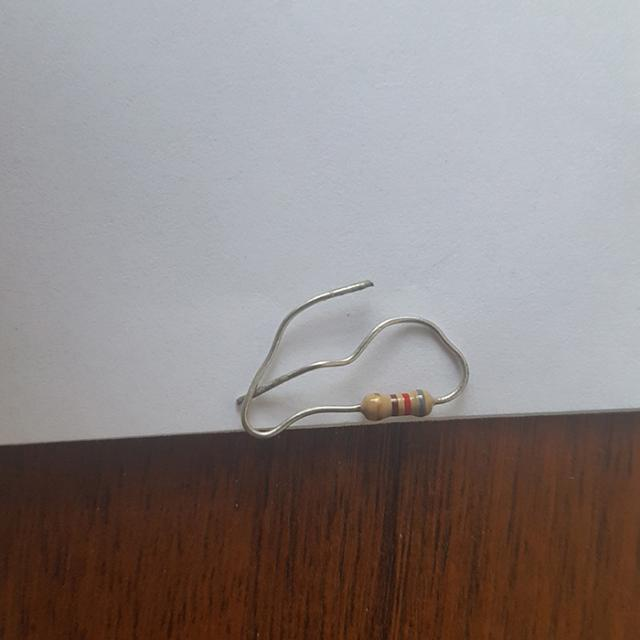brown: (391, 394, 398, 413)
gold: (375, 394, 379, 415)
grey: (419, 391, 425, 414)
red: (403, 393, 409, 412)
resistor: (354, 383, 445, 430)
